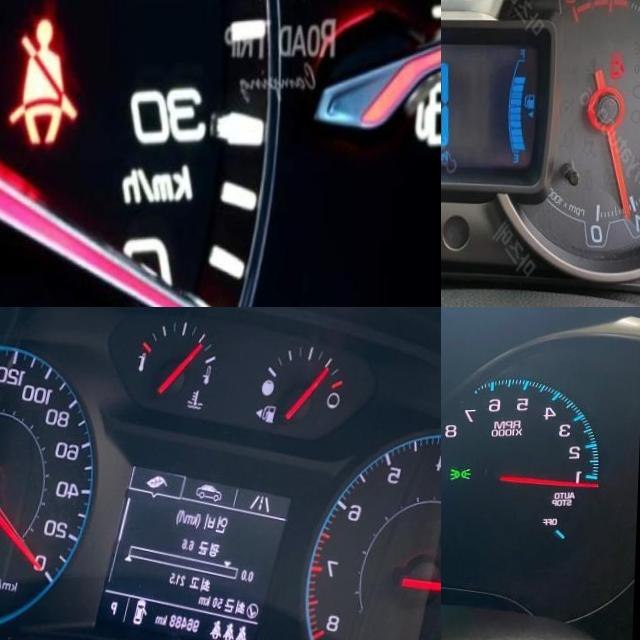SideLamp: (454, 469, 475, 482)
